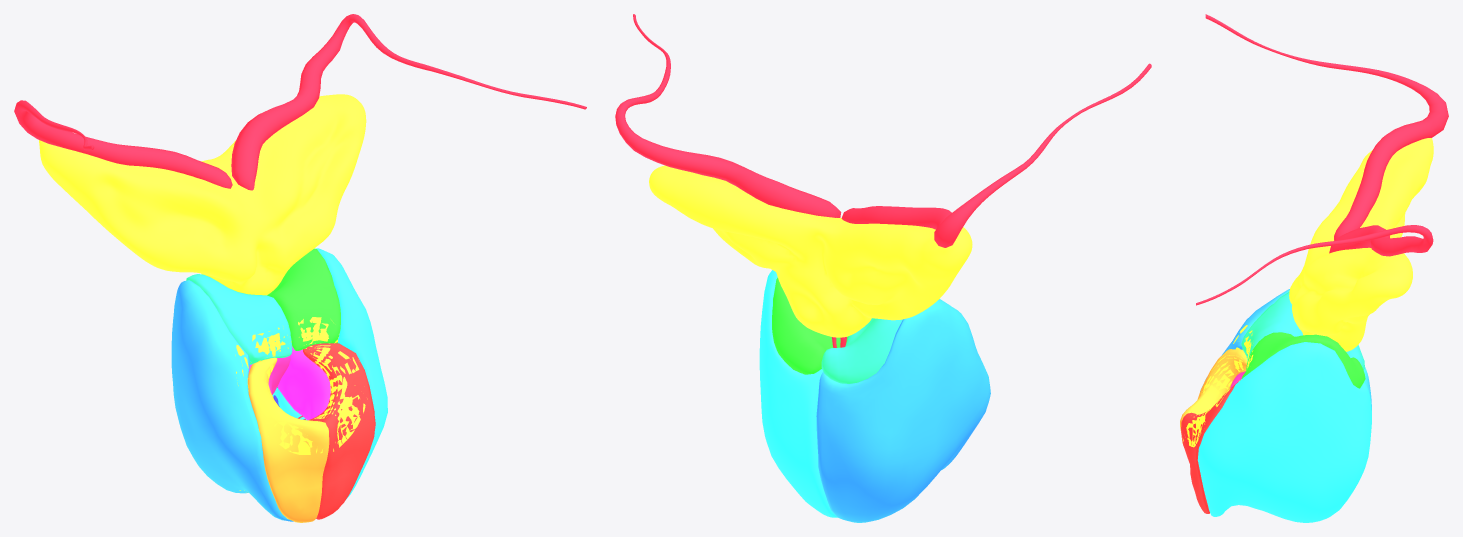
The model's file is prostata-male-mobil.glb.
The picture shows the model from 3 angles, left to right: view 1: azimuth 30°, elevation 25°; view 2: azimuth 150°, elevation 25°; view 3: azimuth 270°, elevation 25°; orthographic projection. The views are drawn at different scales.
Visible parts, largest first — view 1: 0:1:VH_M_seminal_vesicle, 0:15:VH_M_peripheral_zone_of_prostate_R, 0:7:VH_M_anterior_fibromuscular_stroma_R, 0:6:VH_M_anterior_fibromuscular_stroma_L, 0:3:VH_M_vas_deferens_R, 0:2:VH_M_vas_deferens_L, 0:11:VH_M_central_zone_of_prostate_L, 0:14:VH_M_peripheral_zone_of_prostate_L, 0:12:VH_M_central_zone_of_prostate_R, 0:10:VH_M_base_of_prostate, 0:22:VH_M_transition_zone__of_prostate_L; view 2: 0:15:VH_M_peripheral_zone_of_prostate_R, 0:1:VH_M_seminal_vesicle, 0:14:VH_M_peripheral_zone_of_prostate_L, 0:3:VH_M_vas_deferens_R, 0:2:VH_M_vas_deferens_L, 0:12:VH_M_central_zone_of_prostate_R, 0:11:VH_M_central_zone_of_prostate_L; view 3: 0:14:VH_M_peripheral_zone_of_prostate_L, 0:1:VH_M_seminal_vesicle, 0:2:VH_M_vas_deferens_L, 0:3:VH_M_vas_deferens_R, 0:11:VH_M_central_zone_of_prostate_L, 0:12:VH_M_central_zone_of_prostate_R, 0:6:VH_M_anterior_fibromuscular_stroma_L, 0:7:VH_M_anterior_fibromuscular_stroma_R, 0:10:VH_M_base_of_prostate, 0:15:VH_M_peripheral_zone_of_prostate_R.
Boxes of the visible parts, x1,y1,x2,y2 form: 0:1:VH_M_seminal_vesicle: [39, 94, 366, 295]; 0:15:VH_M_peripheral_zone_of_prostate_R: [171, 280, 293, 521]; 0:7:VH_M_anterior_fibromuscular_stroma_R: [248, 357, 329, 522]; 0:6:VH_M_anterior_fibromuscular_stroma_L: [303, 343, 375, 519]; 0:3:VH_M_vas_deferens_R: [231, 14, 586, 190]; 0:2:VH_M_vas_deferens_L: [14, 100, 232, 188]; 0:11:VH_M_central_zone_of_prostate_L: [267, 248, 340, 387]; 0:14:VH_M_peripheral_zone_of_prostate_L: [272, 248, 387, 499]; 0:12:VH_M_central_zone_of_prostate_R: [186, 274, 292, 364]; 0:10:VH_M_base_of_prostate: [235, 317, 367, 454]; 0:22:VH_M_transition_zone__of_prostate_L: [277, 346, 330, 420]; 0:15:VH_M_peripheral_zone_of_prostate_R: [816, 299, 990, 522]; 0:1:VH_M_seminal_vesicle: [649, 165, 972, 337]; 0:14:VH_M_peripheral_zone_of_prostate_L: [759, 270, 837, 517]; 0:3:VH_M_vas_deferens_R: [615, 14, 841, 217]; 0:2:VH_M_vas_deferens_L: [841, 63, 1151, 247]; 0:12:VH_M_central_zone_of_prostate_R: [821, 318, 902, 383]; 0:11:VH_M_central_zone_of_prostate_L: [772, 277, 848, 374]; 0:14:VH_M_peripheral_zone_of_prostate_L: [1197, 342, 1371, 522]; 0:1:VH_M_seminal_vesicle: [1289, 138, 1433, 351]; 0:2:VH_M_vas_deferens_L: [1205, 14, 1448, 240]; 0:3:VH_M_vas_deferens_R: [1196, 225, 1433, 305]; 0:11:VH_M_central_zone_of_prostate_L: [1241, 332, 1365, 388]; 0:12:VH_M_central_zone_of_prostate_R: [1241, 292, 1364, 369]; 0:6:VH_M_anterior_fibromuscular_stroma_L: [1181, 379, 1240, 513]; 0:7:VH_M_anterior_fibromuscular_stroma_R: [1180, 349, 1247, 443]; 0:10:VH_M_base_of_prostate: [1182, 325, 1253, 447]; 0:15:VH_M_peripheral_zone_of_prostate_R: [1200, 289, 1371, 409].
Bounding box in the file's own units: 0.083 × 0.0706 × 0.0428.
